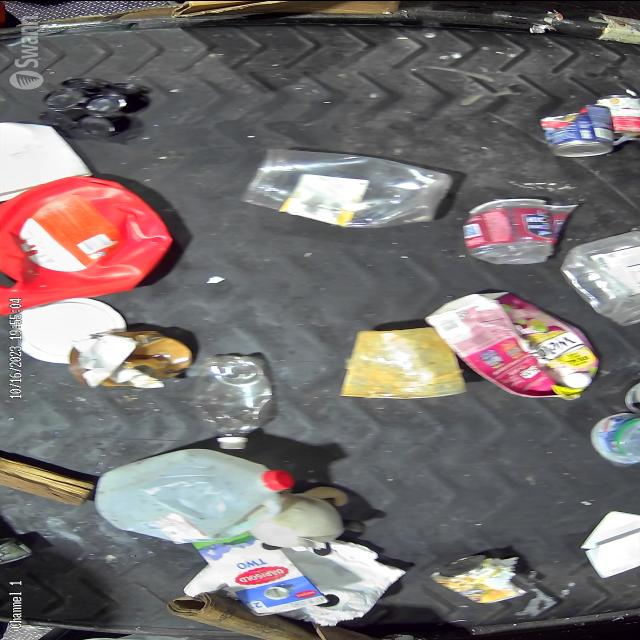can: (427, 550, 532, 608), (535, 102, 627, 160)
milk_jug: (93, 448, 294, 546)
non_white_jug: (0, 175, 170, 314)
plastic_bottle: (190, 353, 284, 451)
